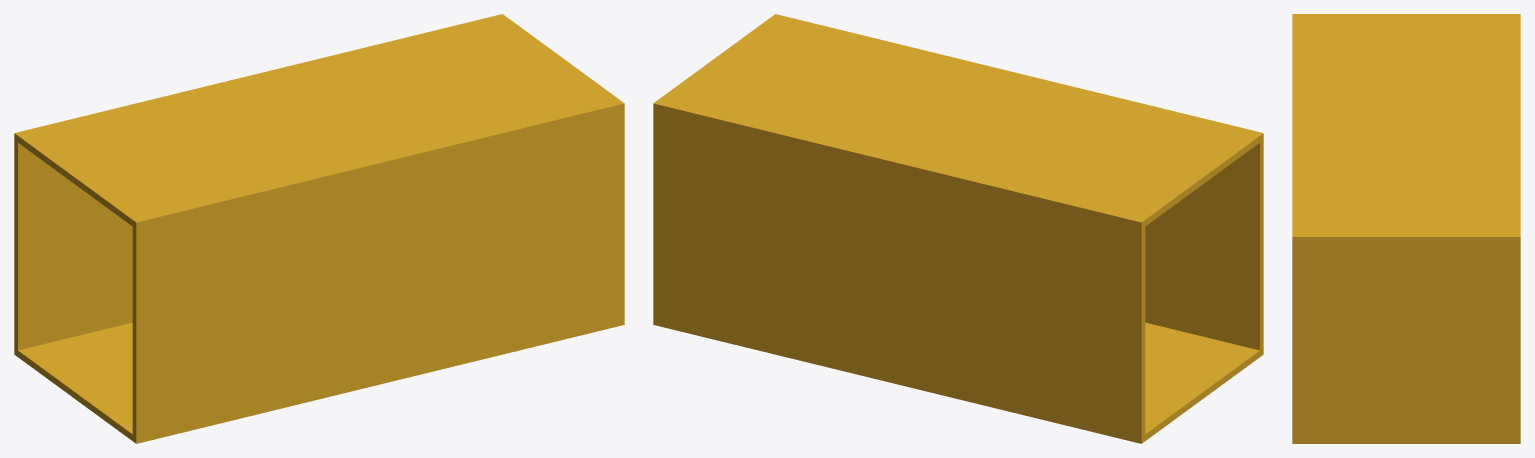
File: test_containers_6x2.6.glb
The picture shows the model from 3 angles, left to right: view 1: azimuth 30°, elevation 25°; view 2: azimuth 150°, elevation 25°; view 3: azimuth 270°, elevation 25°; orthographic projection. The views are drawn at different scales.
Parts seen in each view (by area): view 1: Container_6x2_left-convcol, Container_6x2_top-convcol, Container_6x2, Container_6x2_right-convcol, Container_6x2_bottom-convcol; view 2: Container_6x2, Container_6x2_right-convcol, Container_6x2_top-convcol, Container_6x2_bottom-convcol, Container_6x2_left-convcol; view 3: Container_6x2, Container_6x2_top-convcol, Container_6x2_back-convcol, Container_6x2_left-convcol, Container_6x2_right-convcol, Container_6x2_bottom-convcol.
Part boxes in pixels (x1,y1,x2,y2): Container_6x2_left-convcol: (132, 110, 624, 436); Container_6x2_top-convcol: (14, 14, 624, 228); Container_6x2: (14, 14, 624, 443); Container_6x2_right-convcol: (14, 140, 132, 350); Container_6x2_bottom-convcol: (106, 318, 624, 441); Container_6x2: (653, 14, 1263, 443); Container_6x2_right-convcol: (653, 113, 1145, 436); Container_6x2_top-convcol: (653, 14, 1263, 227); Container_6x2_bottom-convcol: (653, 318, 1172, 439); Container_6x2_left-convcol: (1234, 140, 1263, 349); Container_6x2: (1292, 14, 1520, 443); Container_6x2_top-convcol: (1292, 14, 1520, 243); Container_6x2_back-convcol: (1299, 243, 1513, 437); Container_6x2_left-convcol: (1292, 243, 1299, 437); Container_6x2_right-convcol: (1513, 243, 1520, 436); Container_6x2_bottom-convcol: (1292, 437, 1520, 443).
Bounding box in the file's own units: 6 × 2.6 × 2.6.
